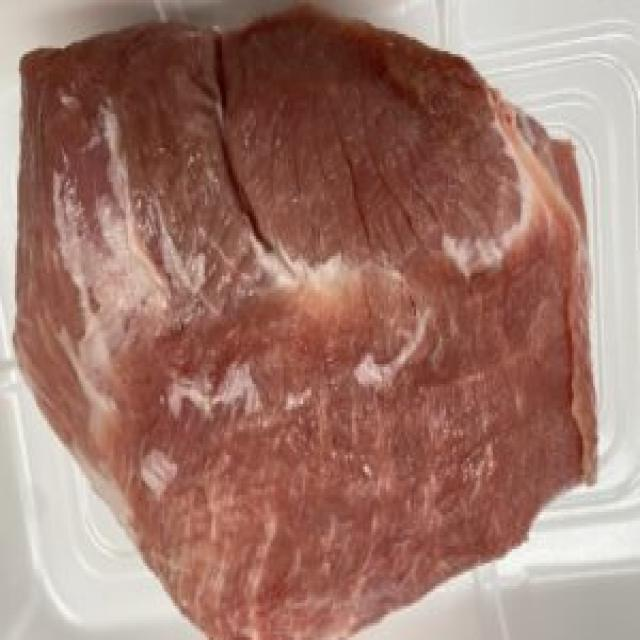pork belly: (15, 20, 597, 640)
